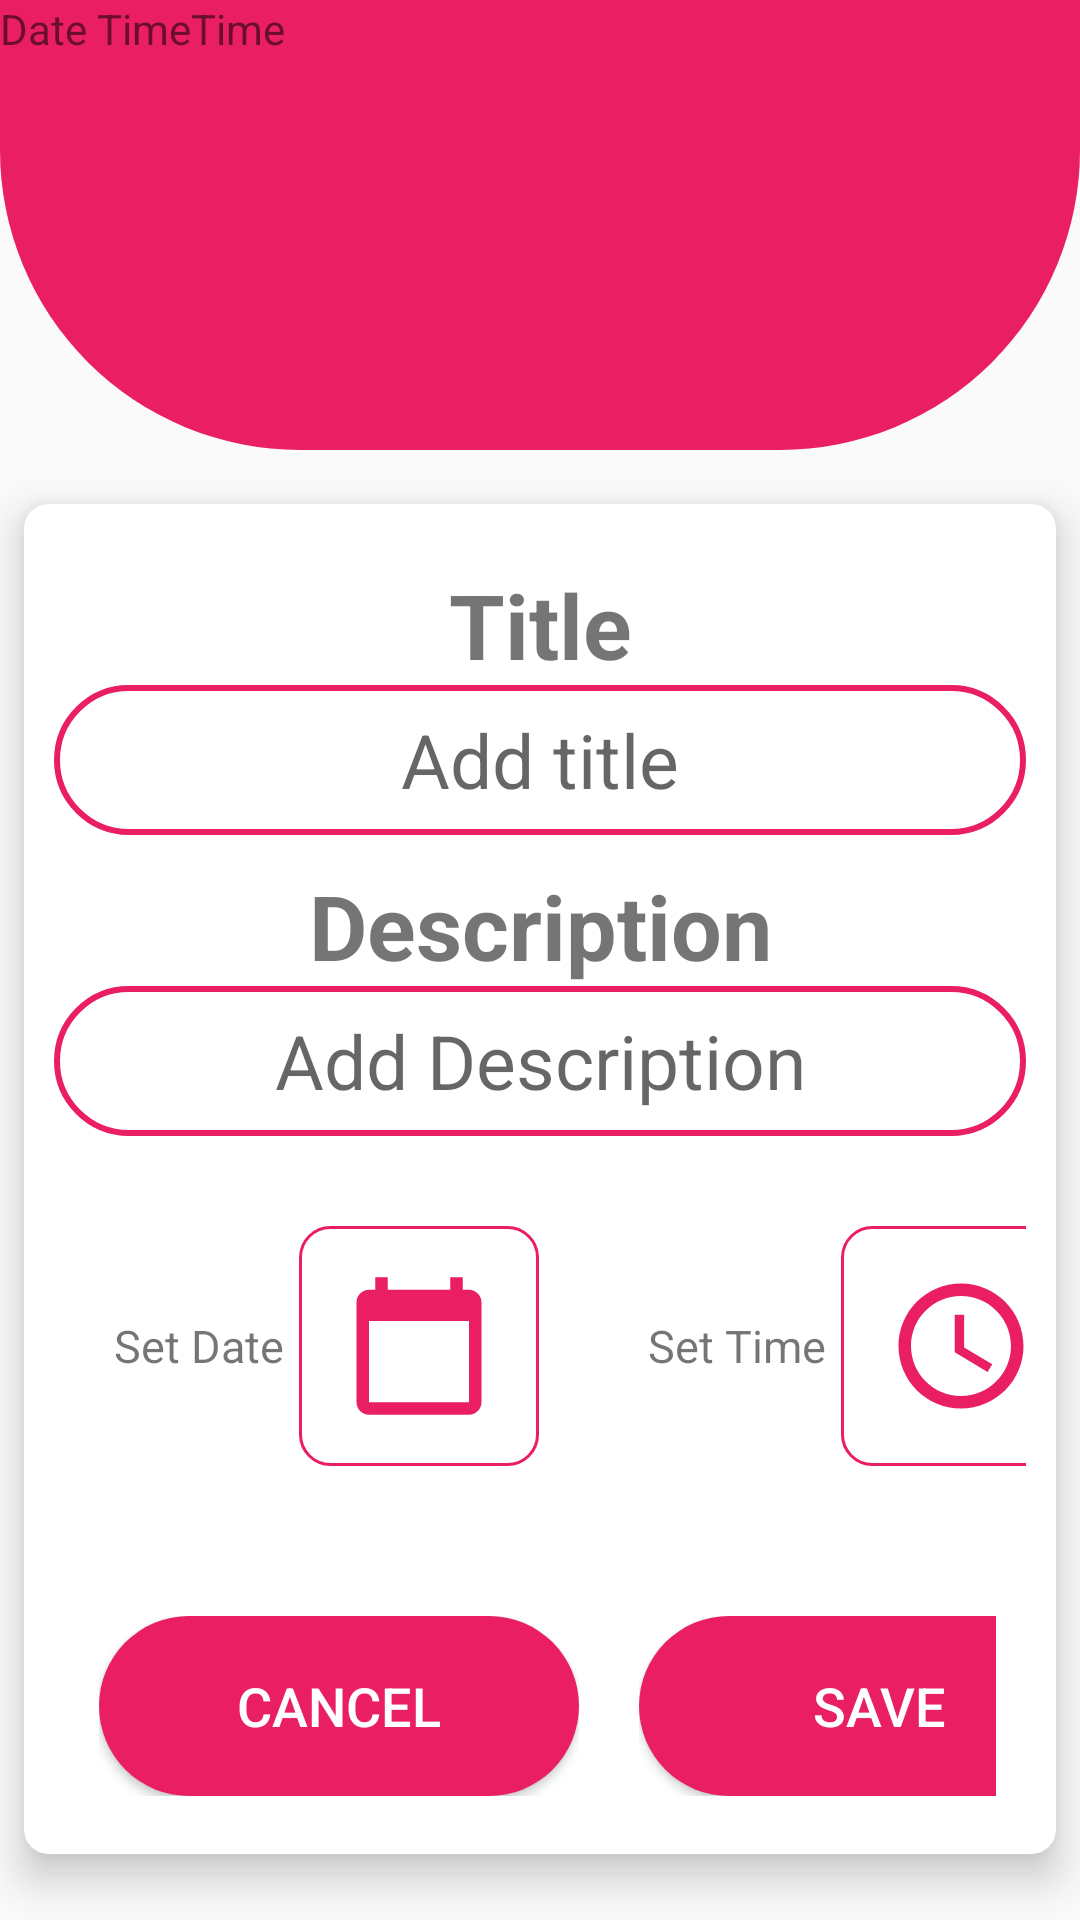

Screen size 1080px×1920px. Icon name, then its box in pixels as (x1, y1, x2, y2):
calendar today: (299, 1226, 539, 1466)
